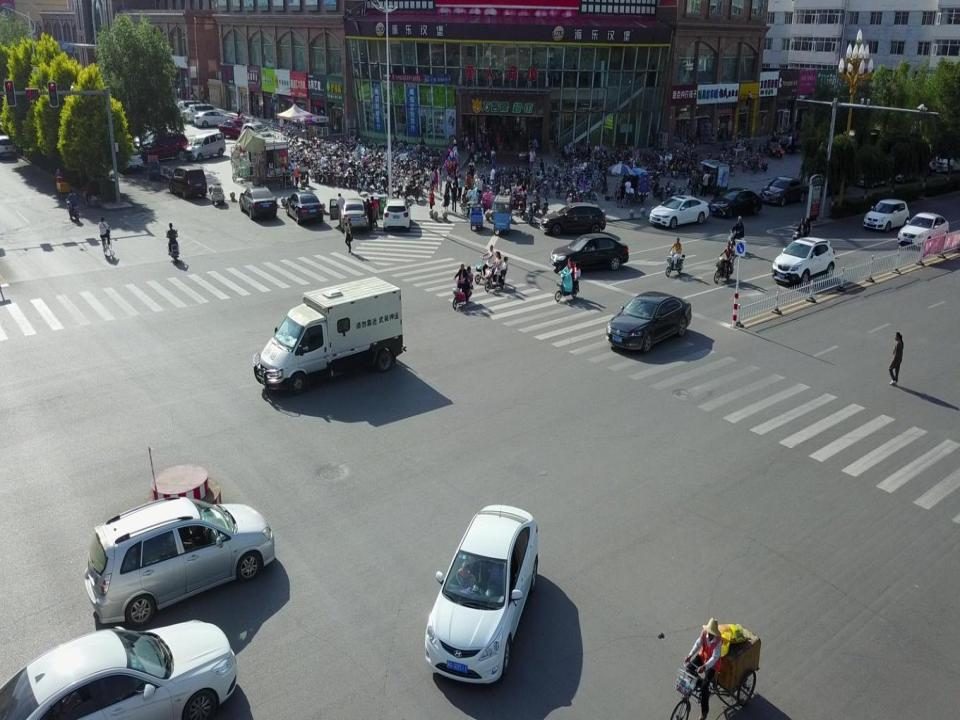car: (86, 495, 276, 625), (0, 619, 238, 720), (424, 504, 538, 684), (606, 291, 692, 351), (551, 233, 629, 272), (771, 237, 835, 284), (649, 193, 709, 228), (897, 211, 950, 248), (541, 206, 605, 235), (863, 197, 909, 232), (758, 175, 811, 204), (710, 187, 762, 216), (239, 185, 278, 220), (185, 130, 226, 162), (139, 133, 189, 159), (168, 166, 208, 197), (330, 198, 370, 229), (286, 192, 323, 222), (186, 103, 228, 122), (112, 146, 144, 170), (855, 166, 891, 187), (194, 110, 234, 128), (241, 122, 275, 142), (383, 205, 411, 229), (219, 118, 252, 138), (892, 162, 922, 182), (175, 100, 208, 116), (0, 135, 16, 157)
truck: (253, 277, 405, 393)
